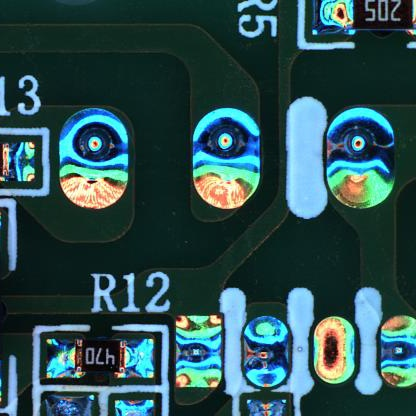spot: (177, 96, 267, 217), (51, 98, 135, 216), (320, 101, 400, 212), (236, 311, 299, 391), (171, 311, 228, 391), (308, 310, 361, 390)
